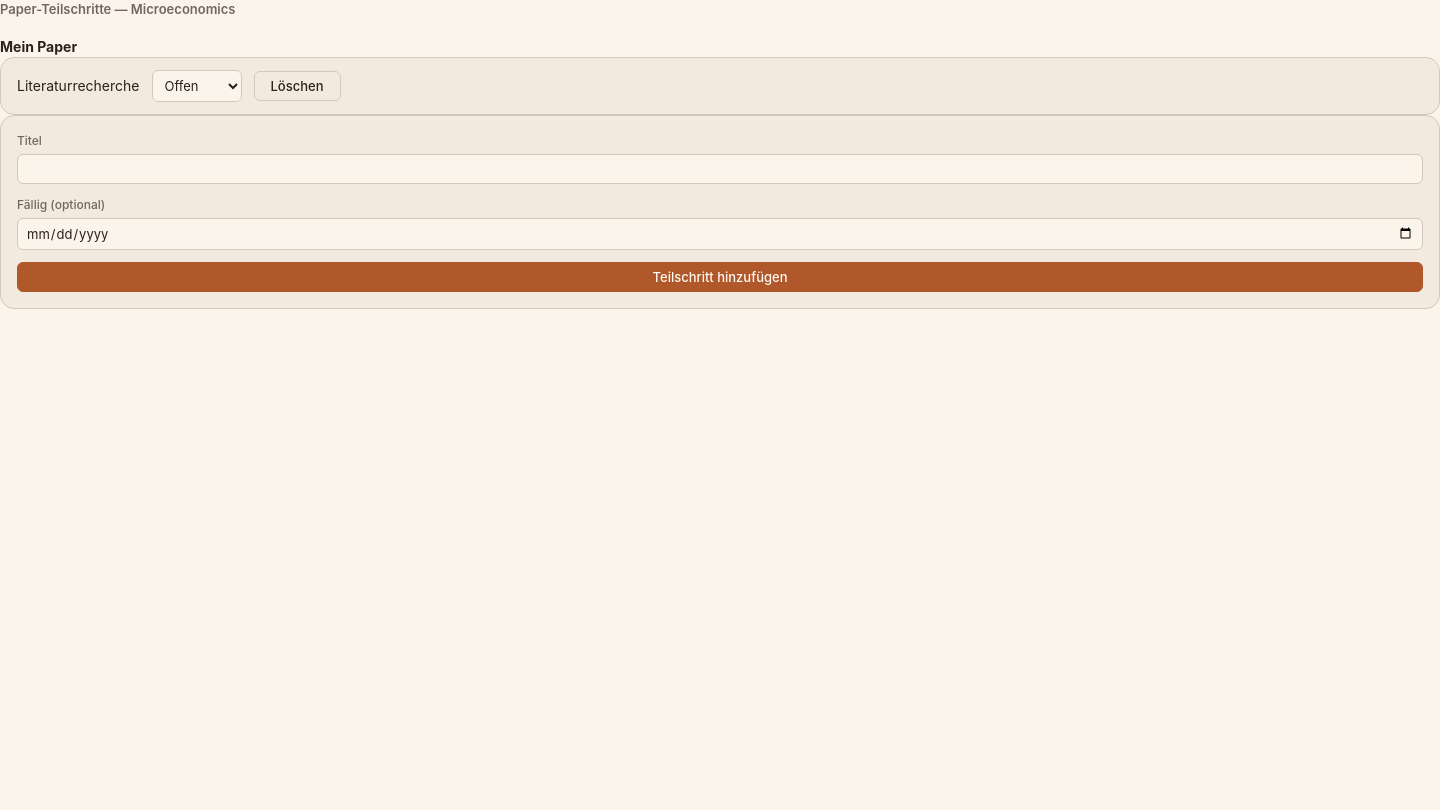
PaperSteps › löscht einen Teilschritt nicht, wenn der Dialog abgebrochen wird
The width and height of the screenshot is (1440, 810).
Click the button named "Schritt \"Literaturrecherche\" löschen": (297, 86) top-left (254, 70), bottom-right (340, 100)
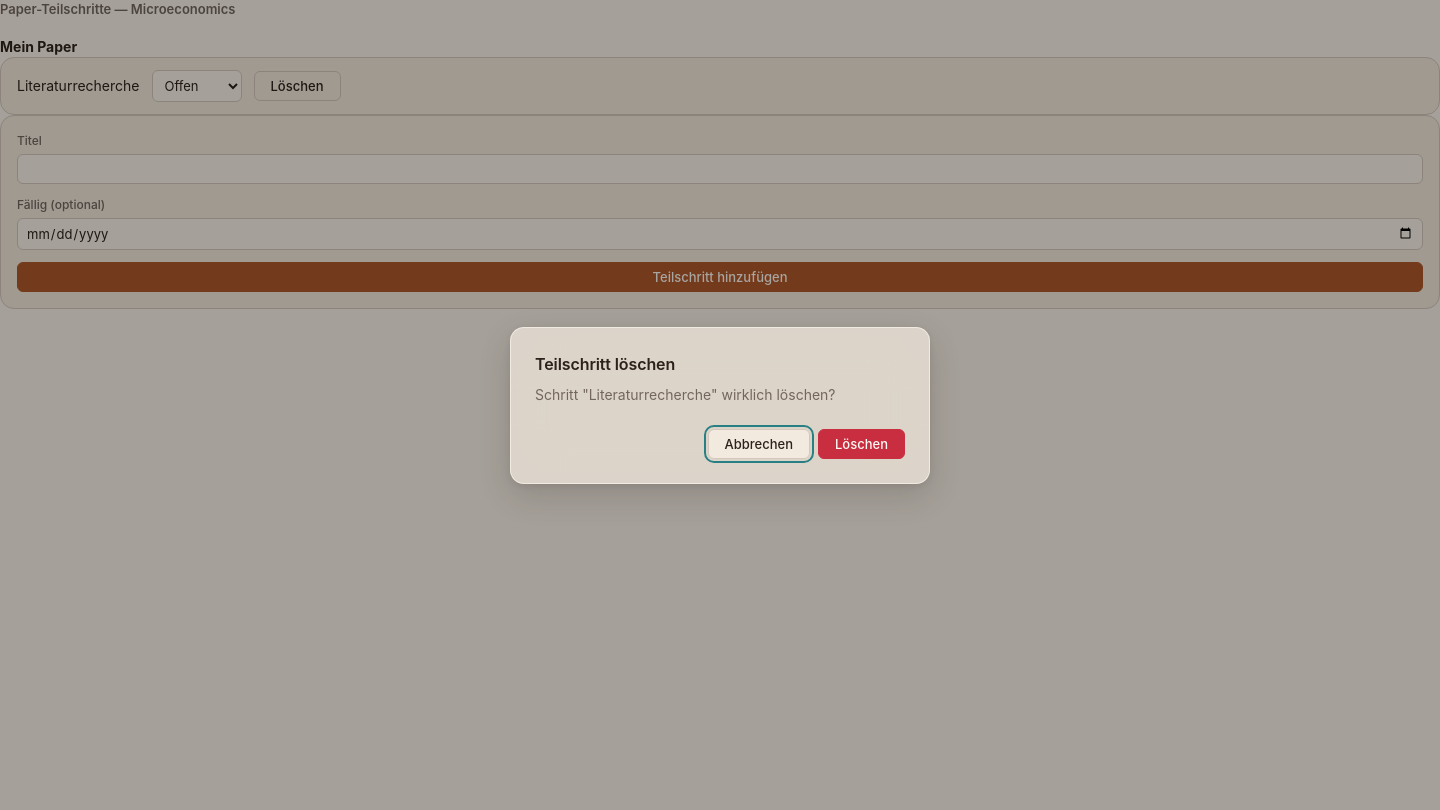
Click the button "Abbrechen": (759, 444) top-left (708, 428), bottom-right (810, 458)
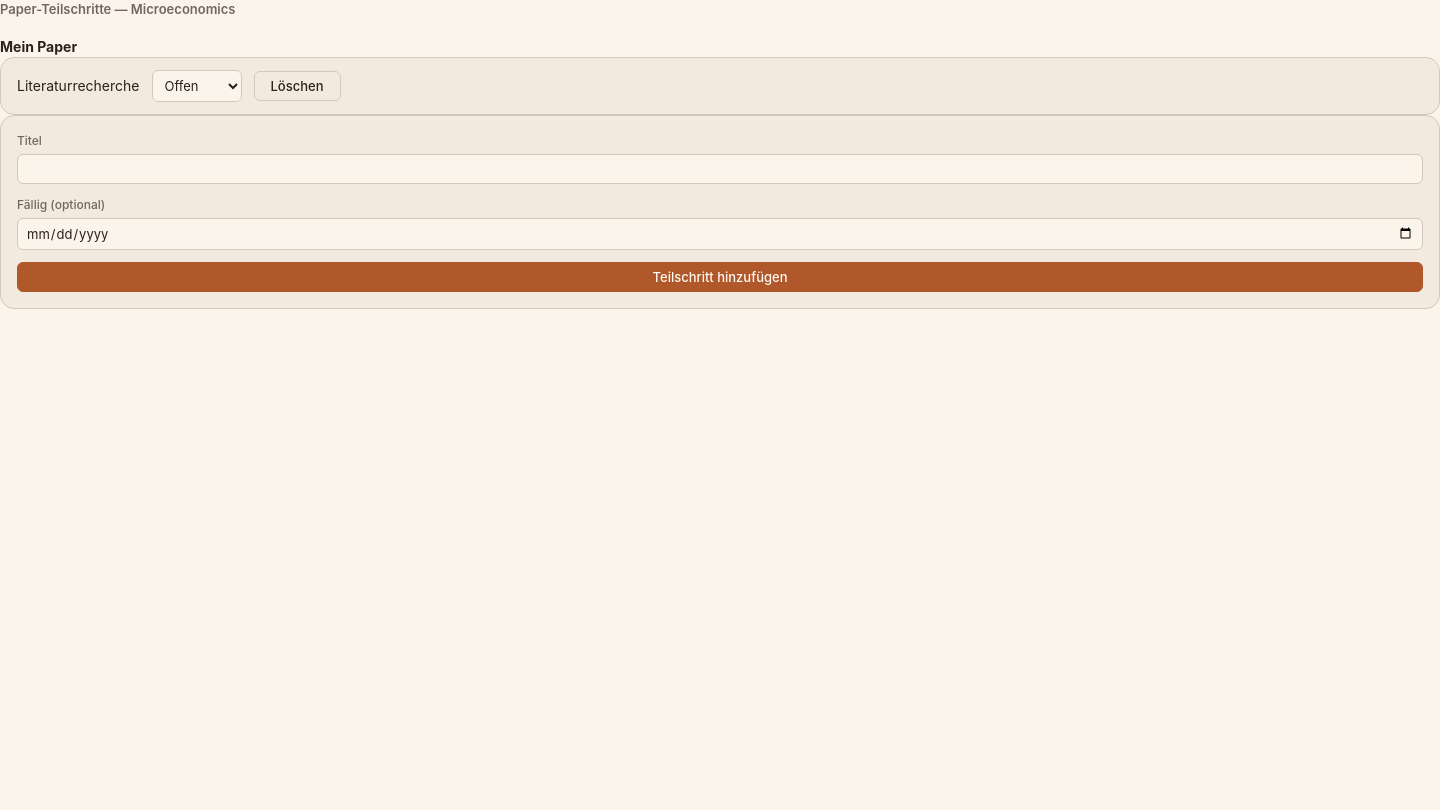
Now the dialog is gone
